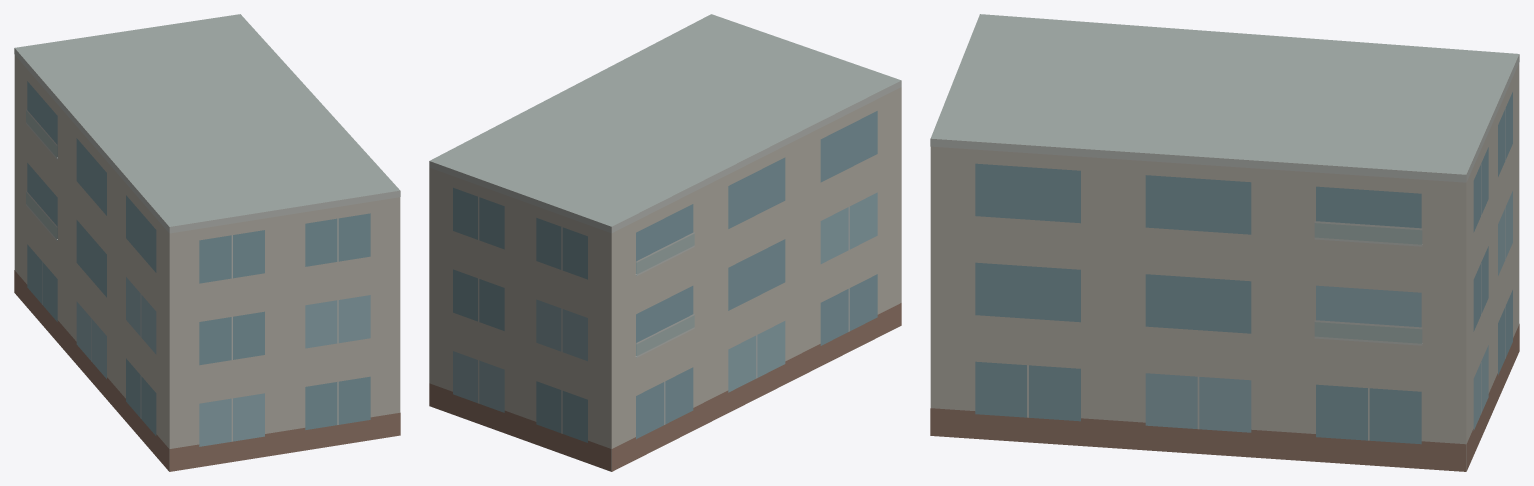
Rendered from survey-upis-32707000.glb.
3 renders of one model, left to right at view 1: azimuth 30°, elevation 25°; view 2: azimuth 150°, elevation 25°; view 3: azimuth 270°, elevation 25°, orthographic. The views are drawn at different scales.
Parts seen in each view (by area): view 1: survey-upis-32707000.tmp; view 2: survey-upis-32707000.tmp; view 3: survey-upis-32707000.tmp.
Boxes of the visible parts, x1,y1,x2,y2 form: survey-upis-32707000.tmp: [14, 14, 400, 471]; survey-upis-32707000.tmp: [429, 14, 901, 471]; survey-upis-32707000.tmp: [930, 14, 1519, 471].
Bounding box in the file's own units: 10.63 × 9.15 × 16.45.
